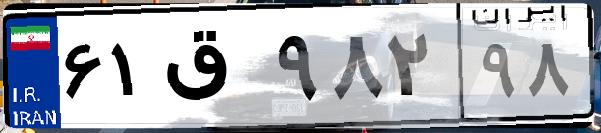1: (110, 28, 158, 98)
2: (385, 28, 445, 110)
6: (57, 26, 110, 100)
8: (330, 28, 385, 110), (525, 38, 570, 115)
9: (270, 28, 330, 110), (475, 38, 525, 113)
ق: (158, 20, 270, 120)
